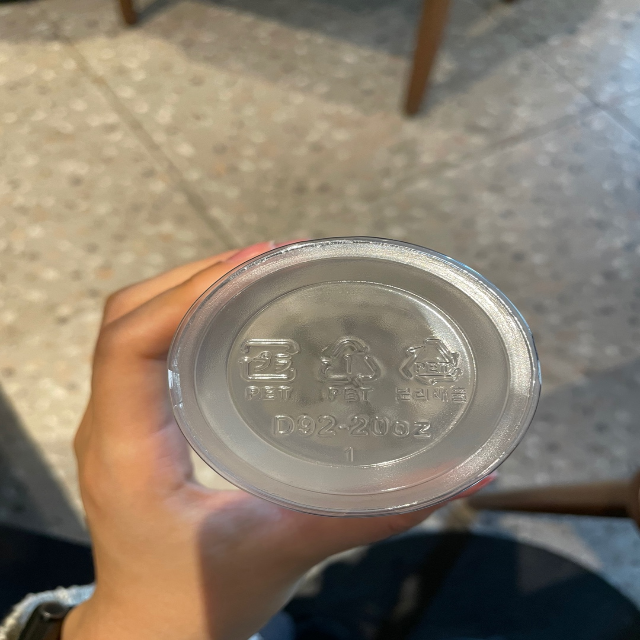pet: (392, 332, 470, 406), (234, 334, 302, 404), (316, 332, 382, 404)
